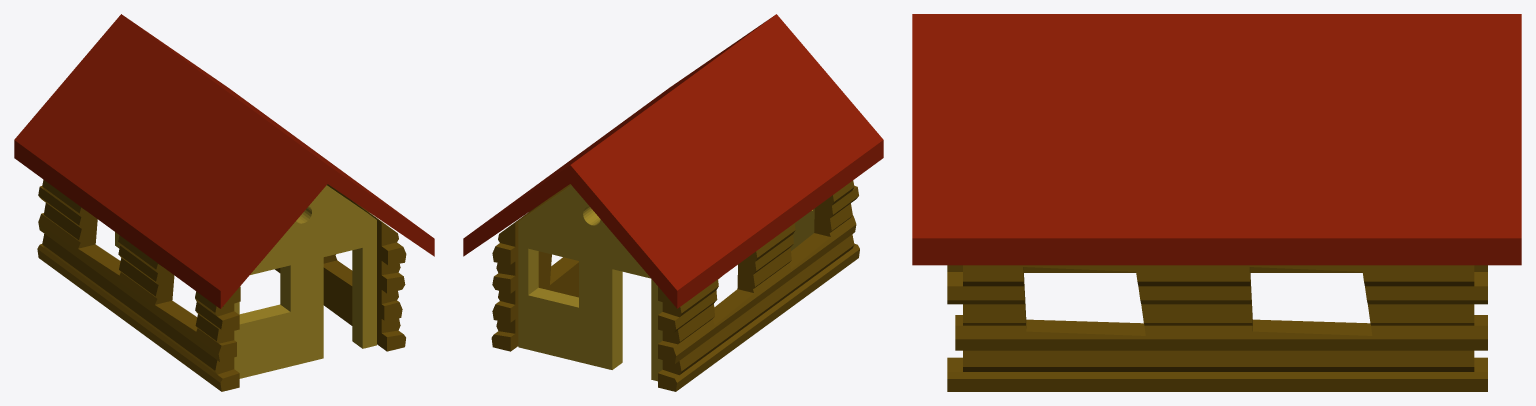
Rendered from casa1.dae.
The picture shows the model from 3 angles, left to right: view 1: azimuth 30°, elevation 25°; view 2: azimuth 150°, elevation 25°; view 3: azimuth 270°, elevation 25°; orthographic projection. The views are drawn at different scales.
Visible parts, largest first — view 1: Casa3Techo, Casa1, Casa2Puerta; view 2: Casa3Techo, Casa1, Casa2Puerta; view 3: Casa3Techo, Casa1.
Part boxes in pixels (x1=…): Casa3Techo: x1=14, y1=14, x2=434, y2=308; Casa1: x1=37, y1=179, x2=406, y2=391; Casa2Puerta: x1=115, y1=185, x2=376, y2=378; Casa3Techo: x1=463, y1=14, x2=883, y2=308; Casa1: x1=491, y1=180, x2=859, y2=391; Casa2Puerta: x1=518, y1=185, x2=814, y2=381; Casa3Techo: x1=912, y1=14, x2=1521, y2=265; Casa1: x1=947, y1=265, x2=1487, y2=391.
Size of the model in its own units: 3.57 by 5.96 by 3.39.
